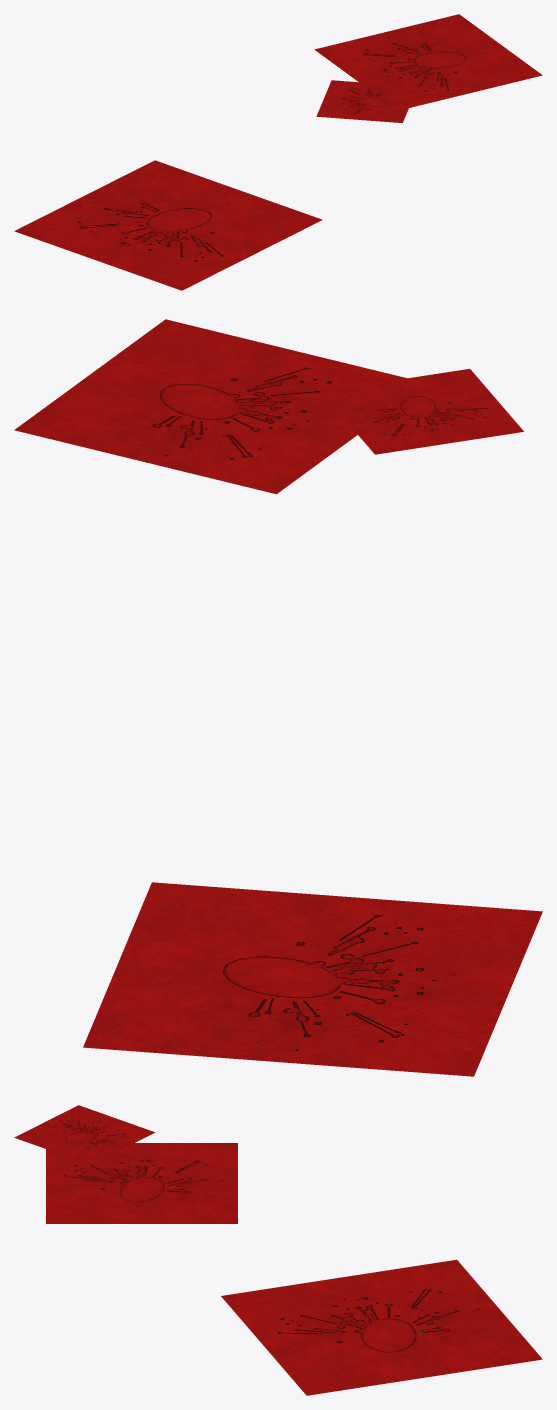
File: tb_blood.glb
The picture shows the model from 3 angles, top to bottom: view 1: azimuth 30°, elevation 25°; view 2: azimuth 150°, elevation 25°; view 3: azimuth 270°, elevation 25°; orthographic projection. The views are drawn at different scales.
Visible parts, largest first — view 1: blood; view 2: blood; view 3: blood.
Boxes of the visible parts, x1=… form: blood: x1=14, y1=14, x2=542, y2=290; blood: x1=14, y1=319, x2=542, y2=1076; blood: x1=14, y1=1105, x2=542, y2=1395.
Size of the model in its own units: 2.02 by 1.12 by 2.31.
1 material, 1 textured.
